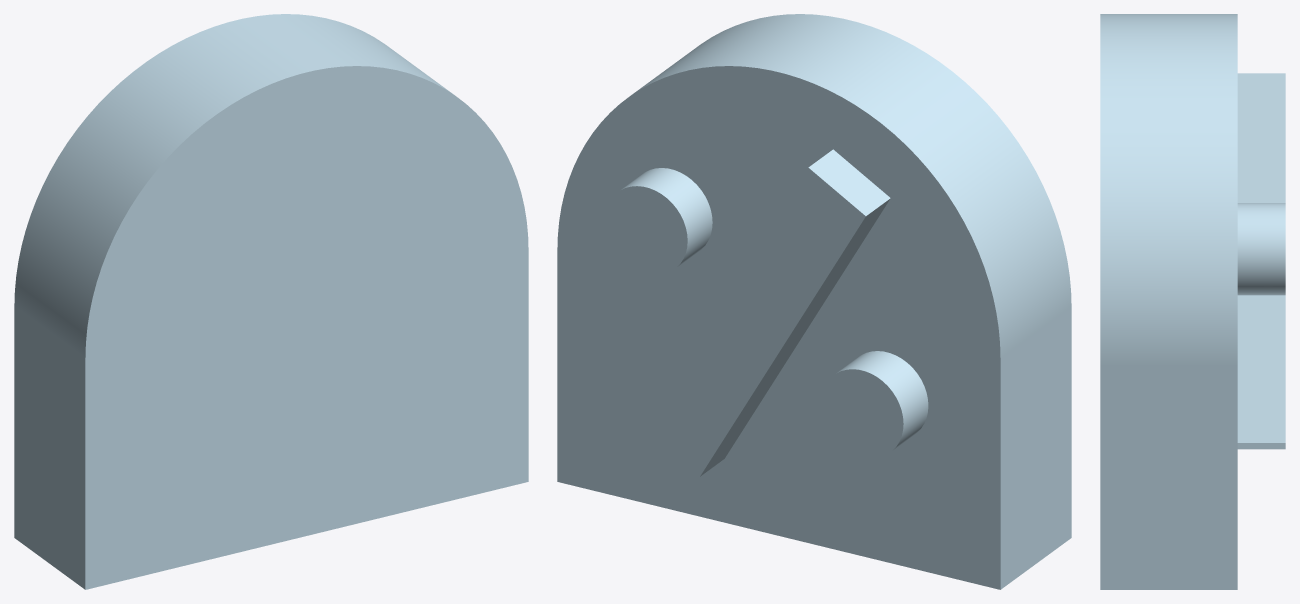
Rendered from modulo.fbx.
3 views of the same model, side by side, from view 1: azimuth 30°, elevation 25°; view 2: azimuth 150°, elevation 25°; view 3: azimuth 270°, elevation 25° (orthographic). The views are drawn at different scales.
Visible parts, largest first — view 1: Part 1; view 2: Part 1; view 3: Part 1.
Boxes of the visible parts, bbox=[...] form: Part 1: bbox=[14, 14, 528, 589]; Part 1: bbox=[557, 14, 1071, 589]; Part 1: bbox=[1100, 14, 1285, 589].
Size of the model in its own units: 90 by 89.98 by 33.75.
